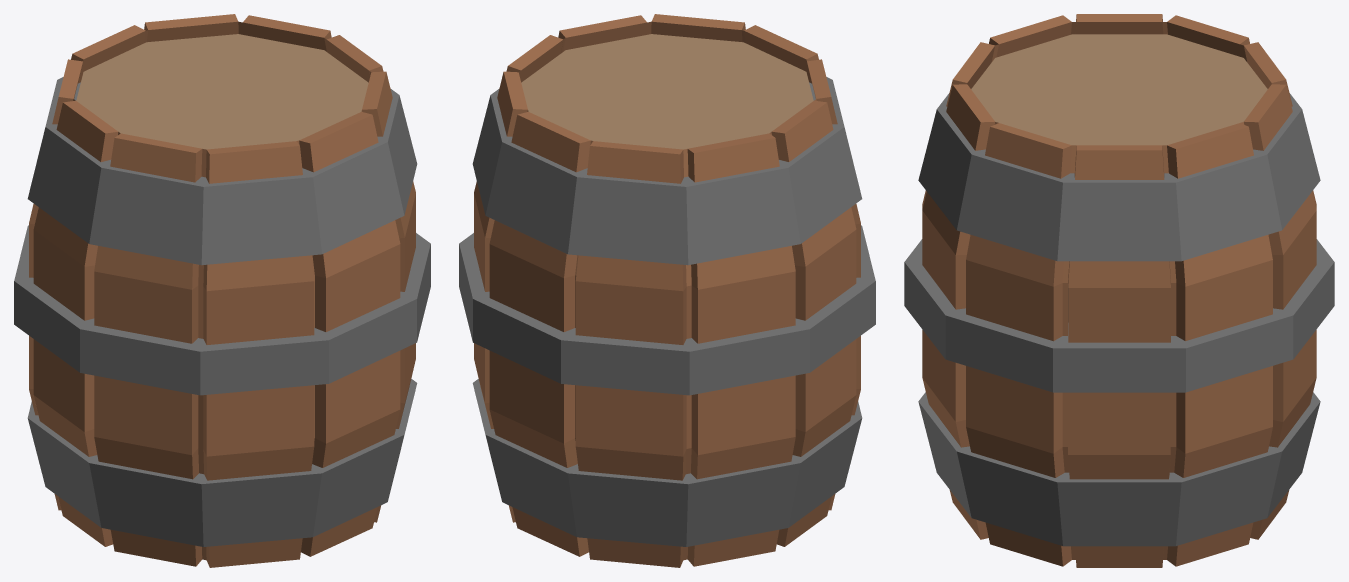
File: Box n Barrel.fbx
The picture shows the model from 3 angles, left to right: view 1: azimuth 30°, elevation 25°; view 2: azimuth 150°, elevation 25°; view 3: azimuth 270°, elevation 25°; orthographic projection.
Visible parts, largest first — view 1: Circle.014, Circle.012, Circle.013; view 2: Circle.014, Circle.012, Circle.013; view 3: Circle.014, Circle.012, Circle.013.
Part boxes in pixels (box(x1,y1,x2,y2)): Circle.014: box(29, 14, 415, 567); Circle.012: box(14, 77, 430, 546); Circle.013: box(76, 34, 368, 149); Circle.014: box(474, 14, 860, 567); Circle.012: box(459, 77, 875, 546); Circle.013: box(521, 34, 813, 149); Circle.014: box(922, 14, 1316, 567); Circle.012: box(904, 93, 1334, 546); Circle.013: box(971, 34, 1267, 322).
Size of the model in its own units: 9.84 by 11.08 by 10.34.
